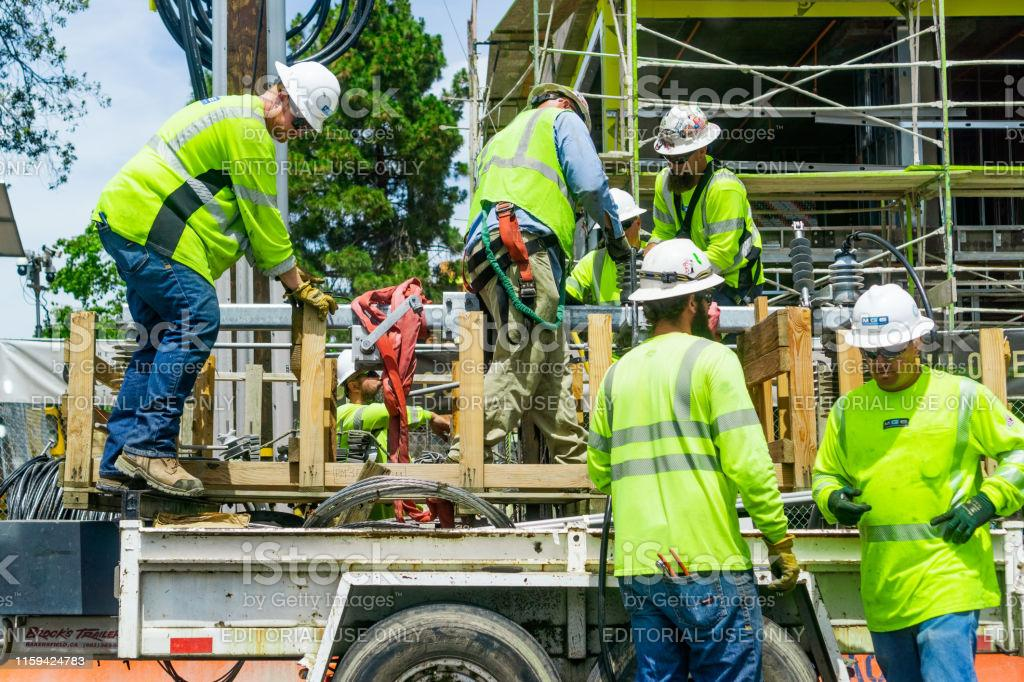hardhat: (274, 56, 343, 137)
worker: (88, 62, 341, 501)
